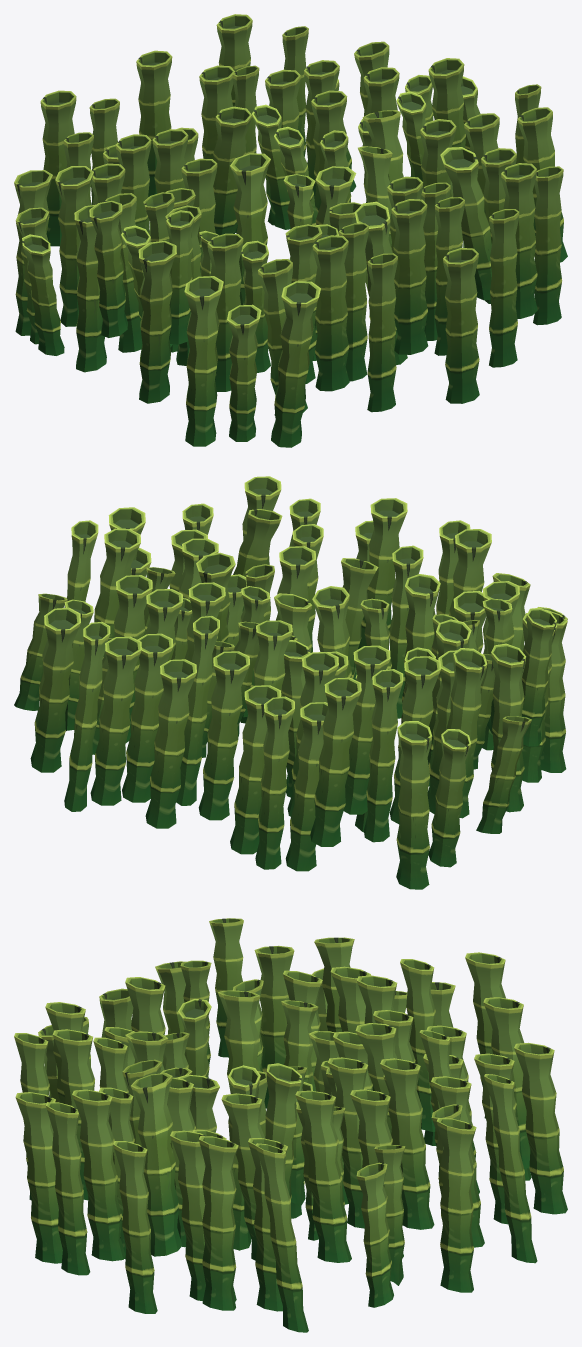
The model's file is Environment_6.fbx.
3 renders of one model, top to bottom at view 1: azimuth 30°, elevation 25°; view 2: azimuth 150°, elevation 25°; view 3: azimuth 270°, elevation 25°, orthographic. The views are drawn at different scales.
Visible parts, largest first — view 1: bamboo6_bamboos__60_, bamboo6_bamboos__59_, bamboo6_bamboos__56_, bamboo6_bamboos__48_, bamboo6_bamboos__28_, bamboo6_bamboos__20_, bamboo6_bamboos__31_, bamboo6_bamboos__47_, bamboo6_bamboos__50_, bamboo6_bamboos__30_, bamboo6_bamboos__58_, bamboo6_bamboos__57_ (+56 smaller); view 2: bamboo6_bamboos__54_, bamboo6_bamboos__37_, bamboo6_bamboos__38_, bamboo6_bamboos__45_, bamboo6_bamboos__35_, bamboo6_bamboos__42_, bamboo6_bamboos__44_, bamboo6_bamboos__25_, bamboo6_bamboos__36_, bamboo6_bamboos__43_, bamboo6_bamboos__23_, bamboo6_bamboos__26_ (+54 smaller); view 3: bamboo6_bamboos__30_, bamboo6_bamboos__39_, bamboo6_bamboos__45_, bamboo6_bamboos__49_, bamboo6_bamboos__42_, bamboo6_bamboos__46_, bamboo6_bamboos__32_, bamboo6_bamboos__48_, bamboo6_bamboos__47_, bamboo6_bamboos__50_, bamboo6_bamboos__43_, bamboo6_bamboos__51_ (+50 smaller).
Part boxes in pixels (left/top/right/bottom): bamboo6_bamboos__60_: left=184, top=276, right=223, bottom=446; bamboo6_bamboos__59_: left=271, top=281, right=320, bottom=447; bamboo6_bamboos__56_: left=138, top=241, right=176, bottom=403; bamboo6_bamboos__48_: left=443, top=248, right=479, bottom=403; bamboo6_bamboos__28_: left=391, top=199, right=428, bottom=354; bamboo6_bamboos__20_: left=312, top=235, right=349, bottom=391; bamboo6_bamboos__31_: left=367, top=253, right=397, bottom=412; bamboo6_bamboos__47_: left=489, top=209, right=519, bottom=367; bamboo6_bamboos__50_: left=533, top=166, right=563, bottom=325; bamboo6_bamboos__30_: left=440, top=147, right=491, bottom=300; bamboo6_bamboos__58_: left=227, top=304, right=261, bottom=441; bamboo6_bamboos__57_: left=74, top=204, right=106, bottom=372; bamboo6_bamboos__54_: left=396, top=721, right=432, bottom=889; bamboo6_bamboos__37_: left=198, top=651, right=249, bottom=820; bamboo6_bamboos__38_: left=145, top=659, right=196, bottom=828; bamboo6_bamboos__45_: left=90, top=636, right=141, bottom=805; bamboo6_bamboos__35_: left=310, top=677, right=361, bottom=846; bamboo6_bamboos__42_: left=30, top=607, right=80, bottom=772; bamboo6_bamboos__44_: left=122, top=633, right=173, bottom=802; bamboo6_bamboos__25_: left=364, top=669, right=403, bottom=842; bamboo6_bamboos__36_: left=255, top=696, right=294, bottom=869; bamboo6_bamboos__43_: left=64, top=621, right=110, bottom=811; bamboo6_bamboos__23_: left=230, top=685, right=281, bottom=854; bamboo6_bamboos__26_: left=285, top=702, right=328, bottom=871; bamboo6_bamboos__30_: left=130, top=1073, right=182, bottom=1256; bamboo6_bamboos__39_: left=295, top=1090, right=351, bottom=1262; bamboo6_bamboos__45_: left=514, top=1042, right=567, bottom=1214; bamboo6_bamboos__49_: left=72, top=1089, right=125, bottom=1261; bamboo6_bamboos__42_: left=436, top=1118, right=476, bottom=1292; bamboo6_bamboos__46_: left=199, top=1136, right=238, bottom=1310; bamboo6_bamboos__32_: left=380, top=1058, right=434, bottom=1229; bamboo6_bamboos__48_: left=15, top=1092, right=62, bottom=1263; bamboo6_bamboos__47_: left=46, top=1102, right=90, bottom=1275; bamboo6_bamboos__50_: left=113, top=1141, right=157, bottom=1313; bamboo6_bamboos__43_: left=484, top=1074, right=537, bottom=1263; bamboo6_bamboos__51_: left=255, top=1143, right=308, bottom=1332.
Bounding box in the file's own units: 21197 × 9309 × 19679.
1 material, 1 textured.
